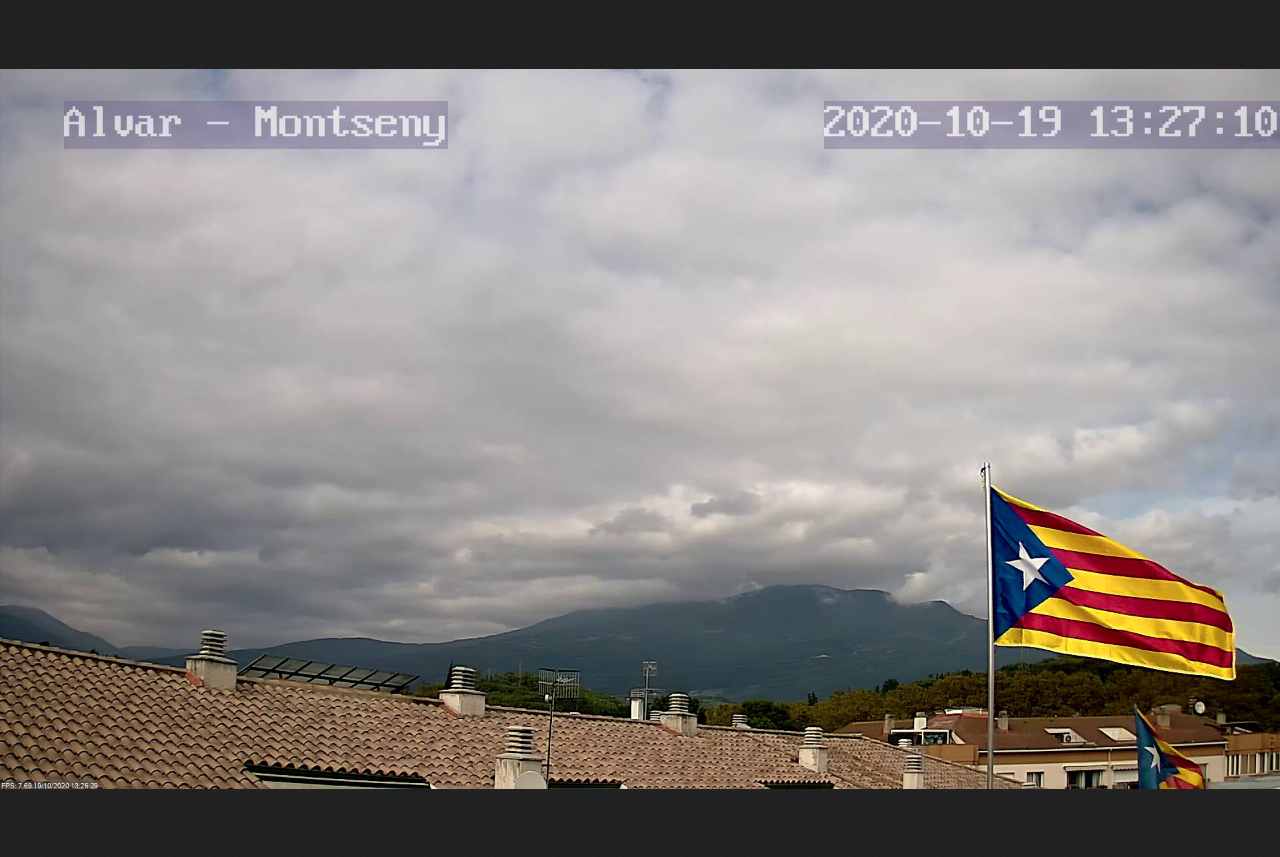yes: (991, 483, 1250, 686), (1135, 705, 1208, 789)
